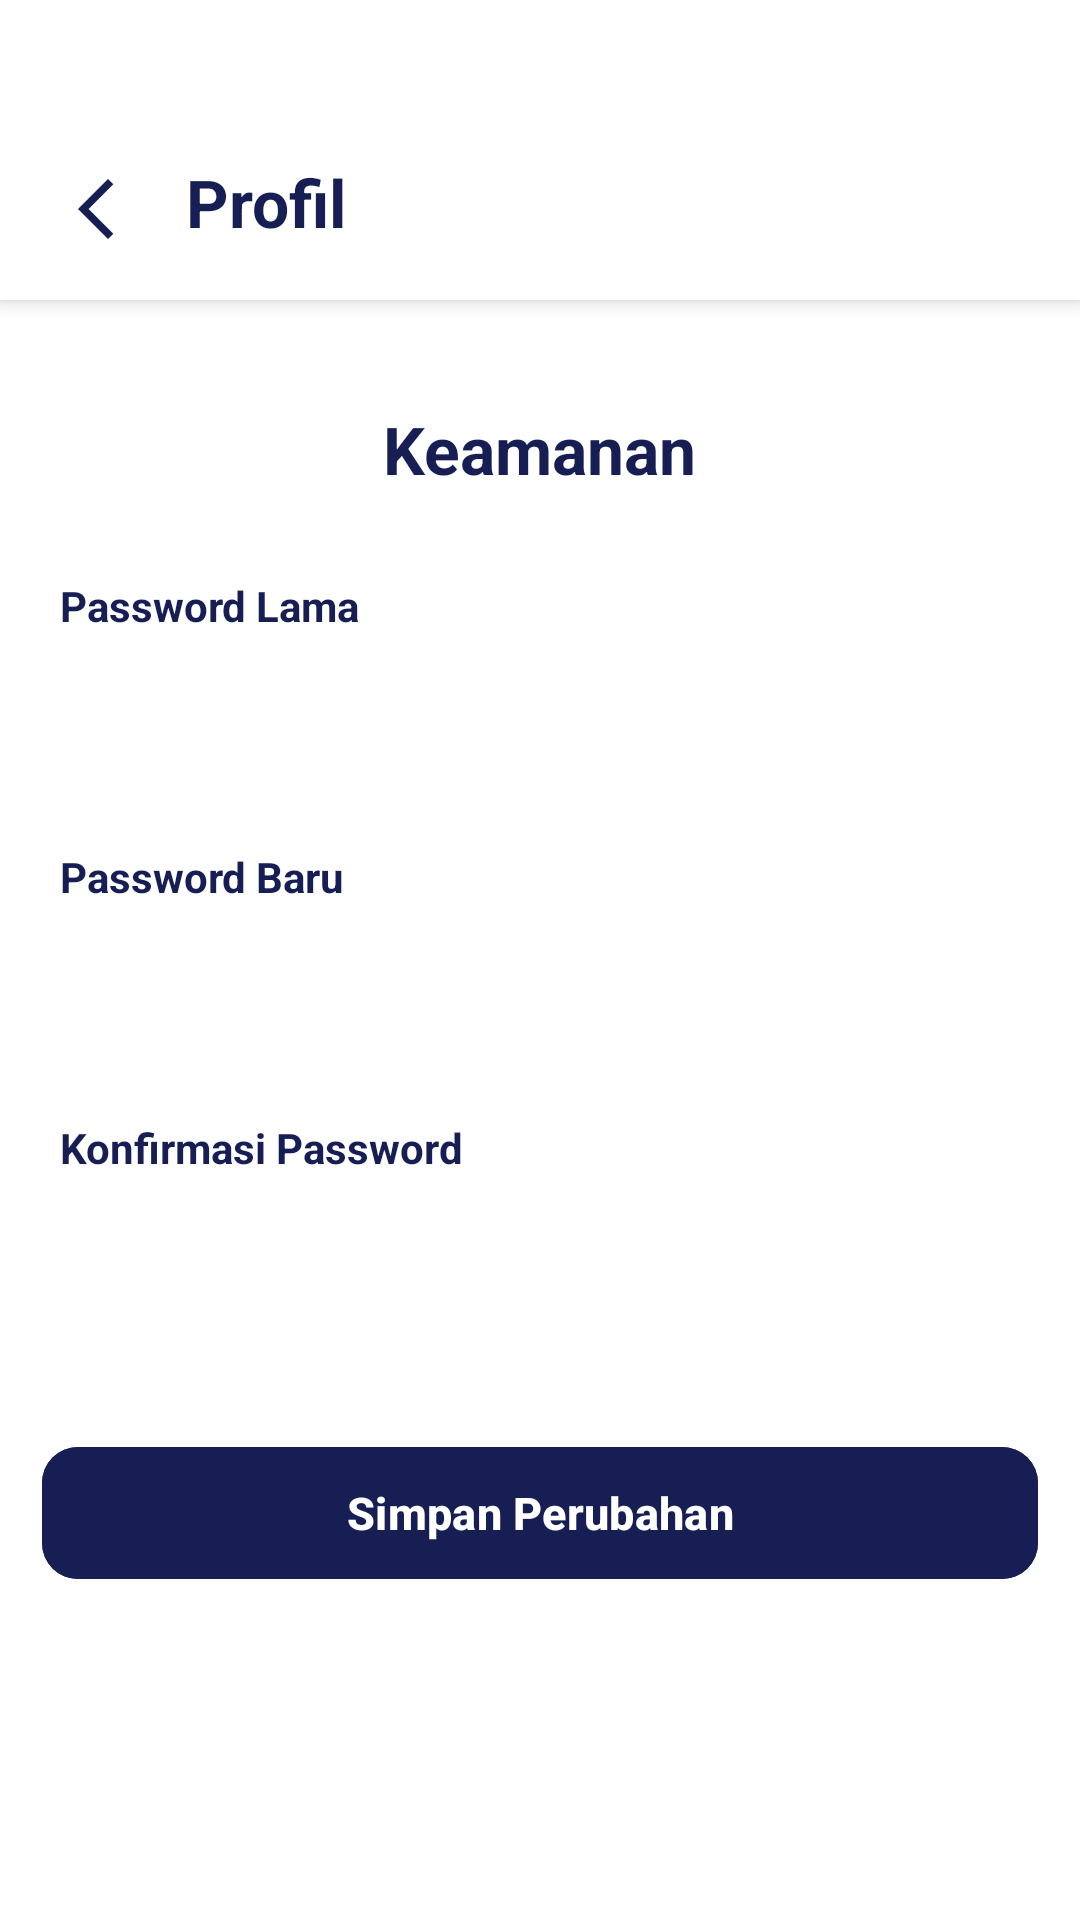

Named icons in this screenshot (1080 x 1920) and their centers, [x,y]:
back: [95,209]
